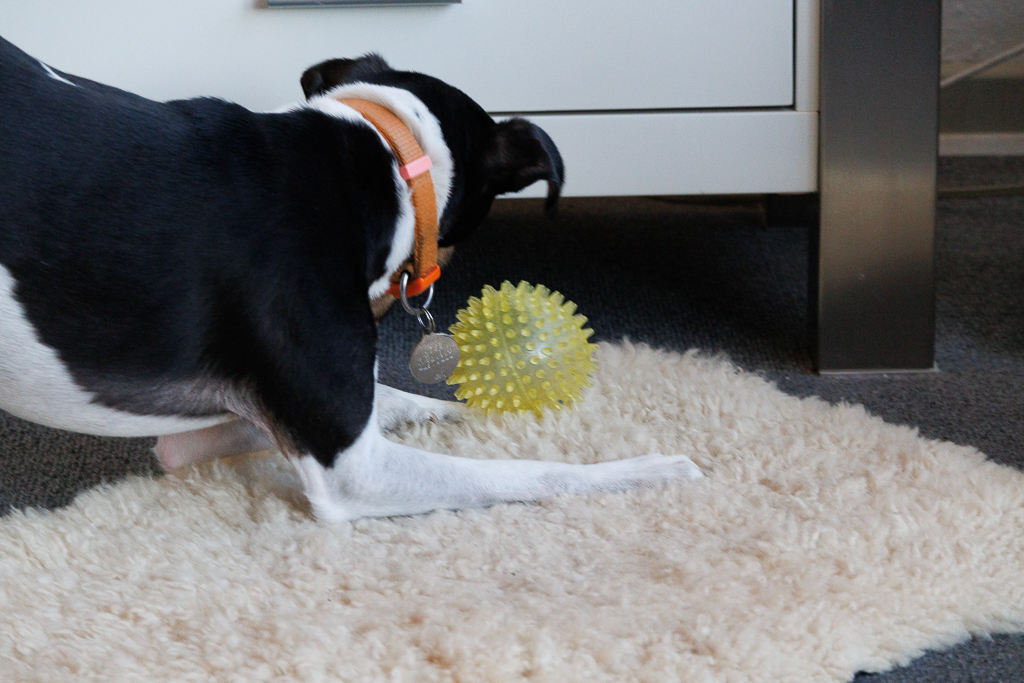Dog: (0, 21, 715, 533)
